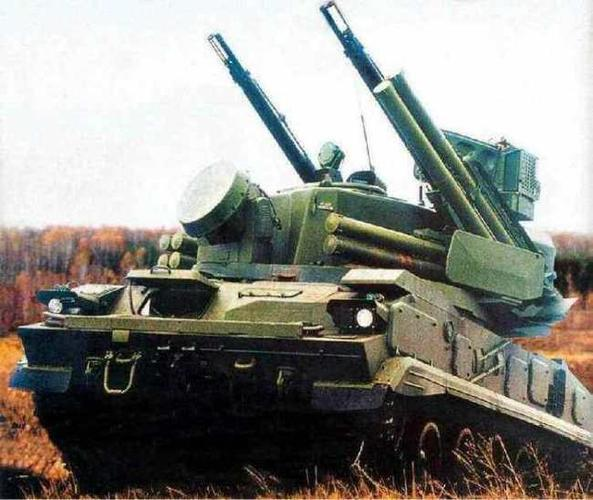MIL_SPG: (10, 2, 593, 487)
